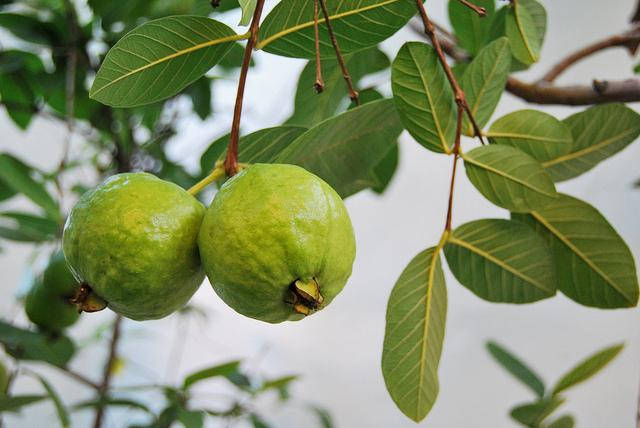oi: (203, 144, 357, 328), (50, 155, 197, 329)
